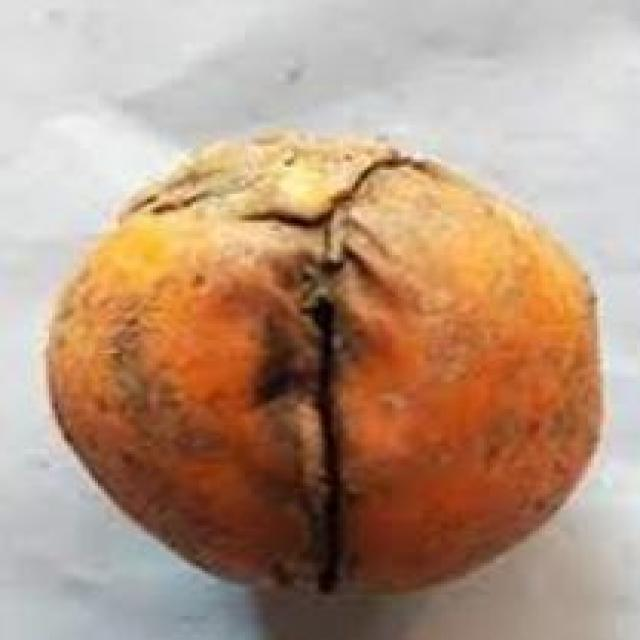damaged: (43, 130, 606, 603)
